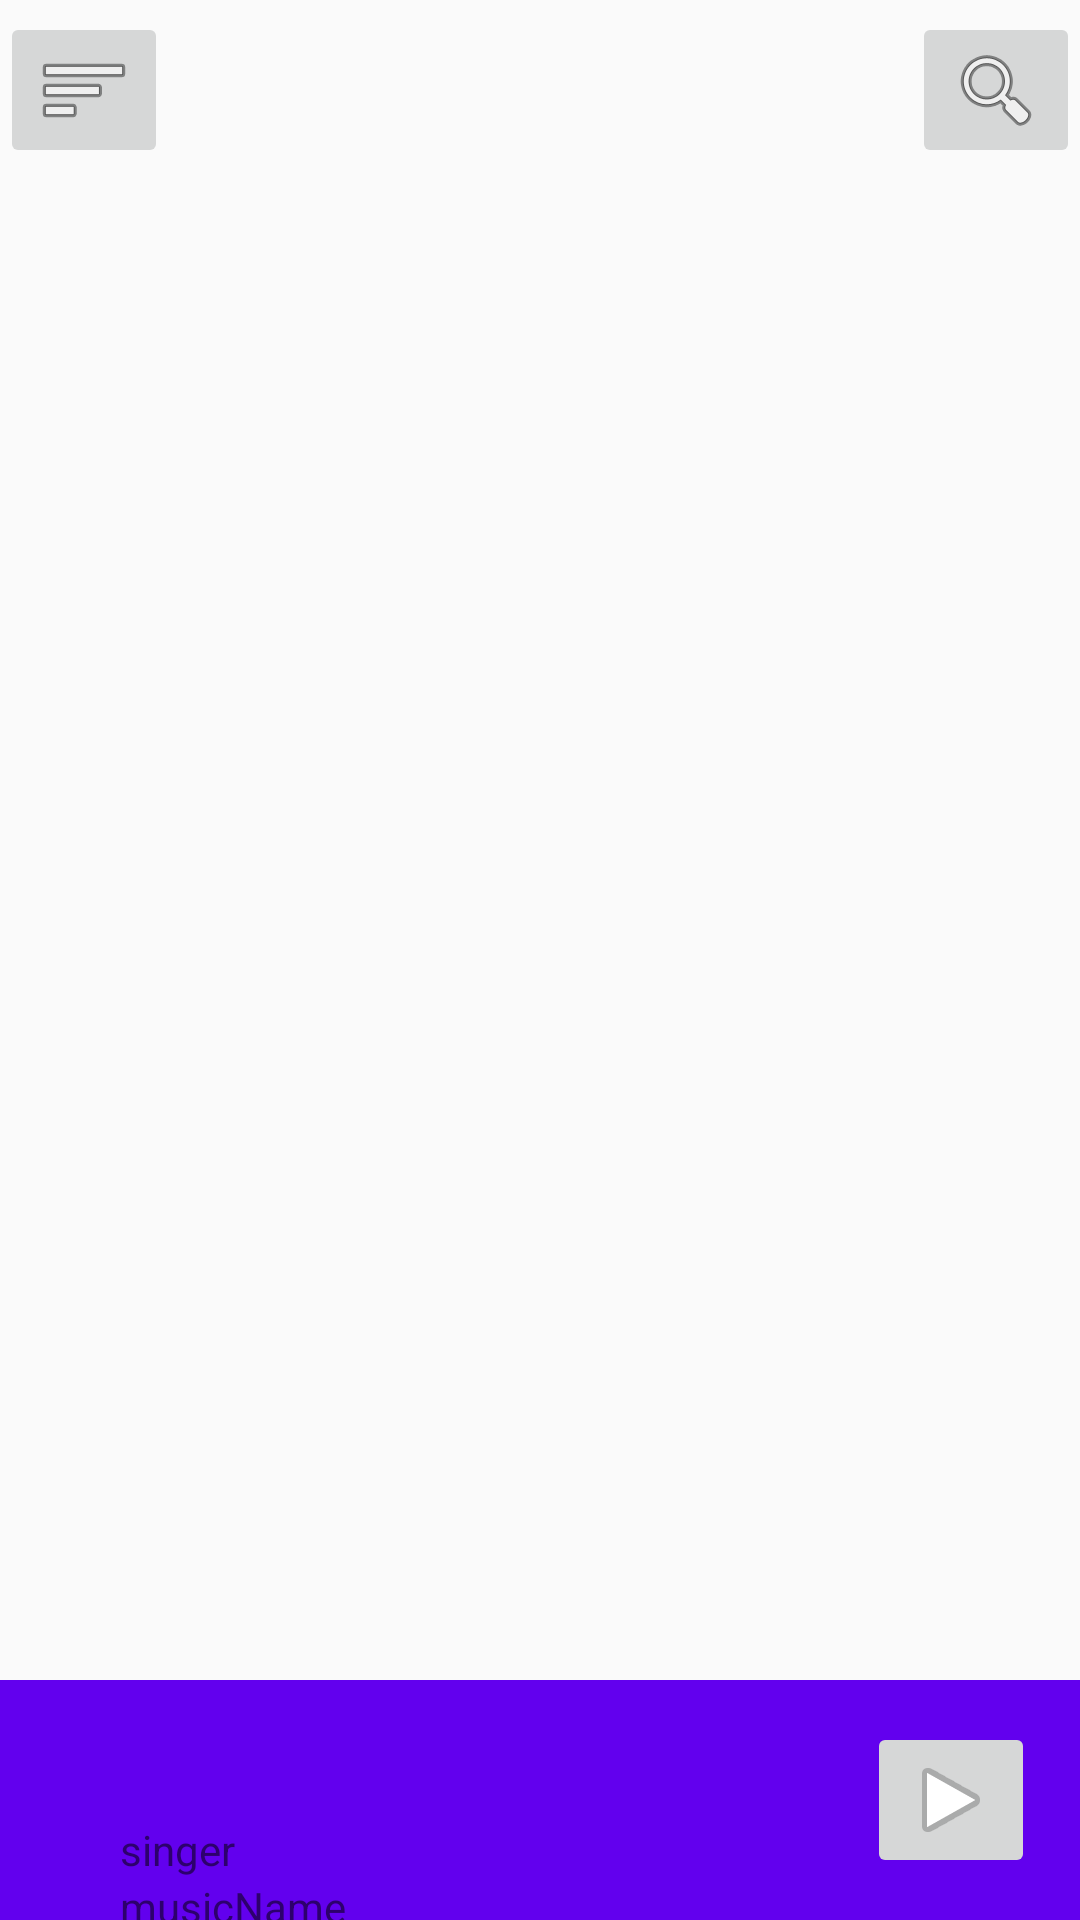

Point at icon controls on the screen. Image size 1080px×1920px, points as (x,y).
play: (951,1800)
search: (996,90)
sort by size: (84,90)
